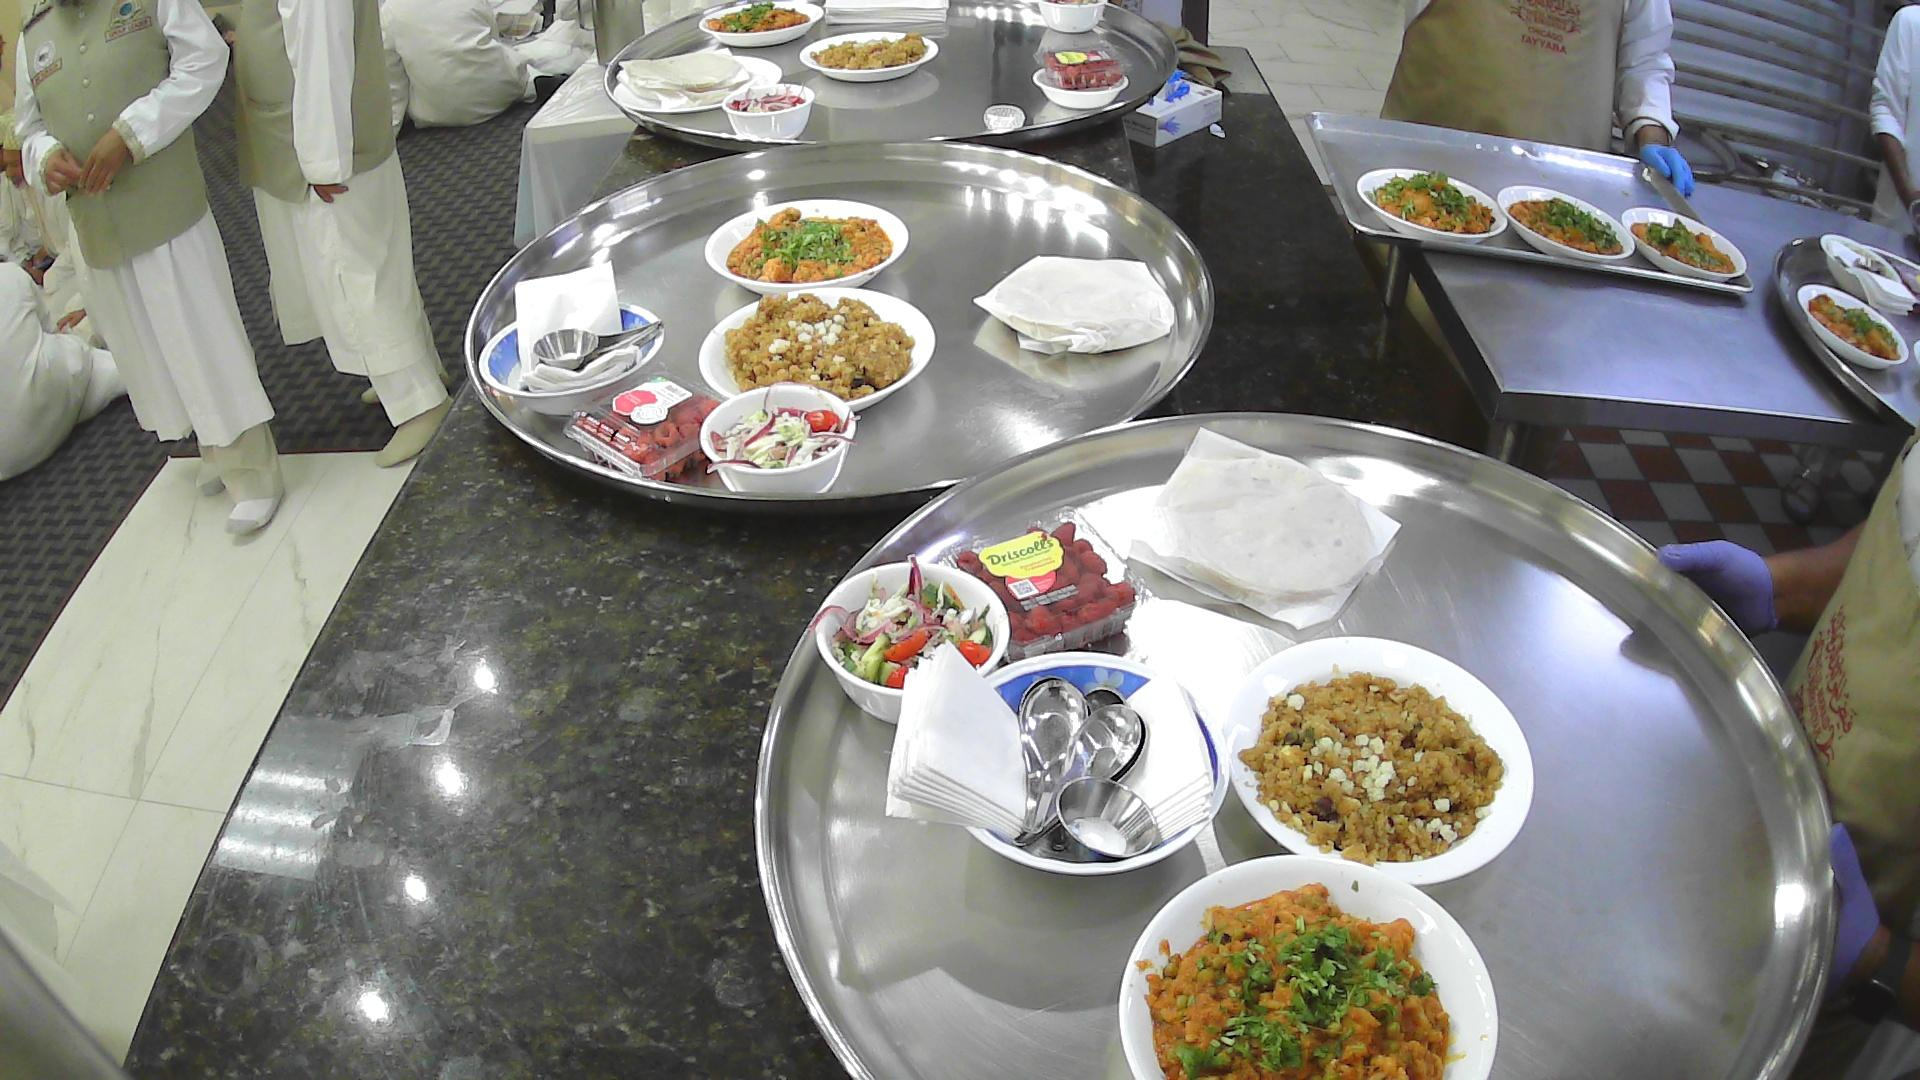thaal: (753, 409, 1842, 1080), (459, 137, 1217, 521), (603, 0, 1180, 157), (1768, 232, 1920, 438)
